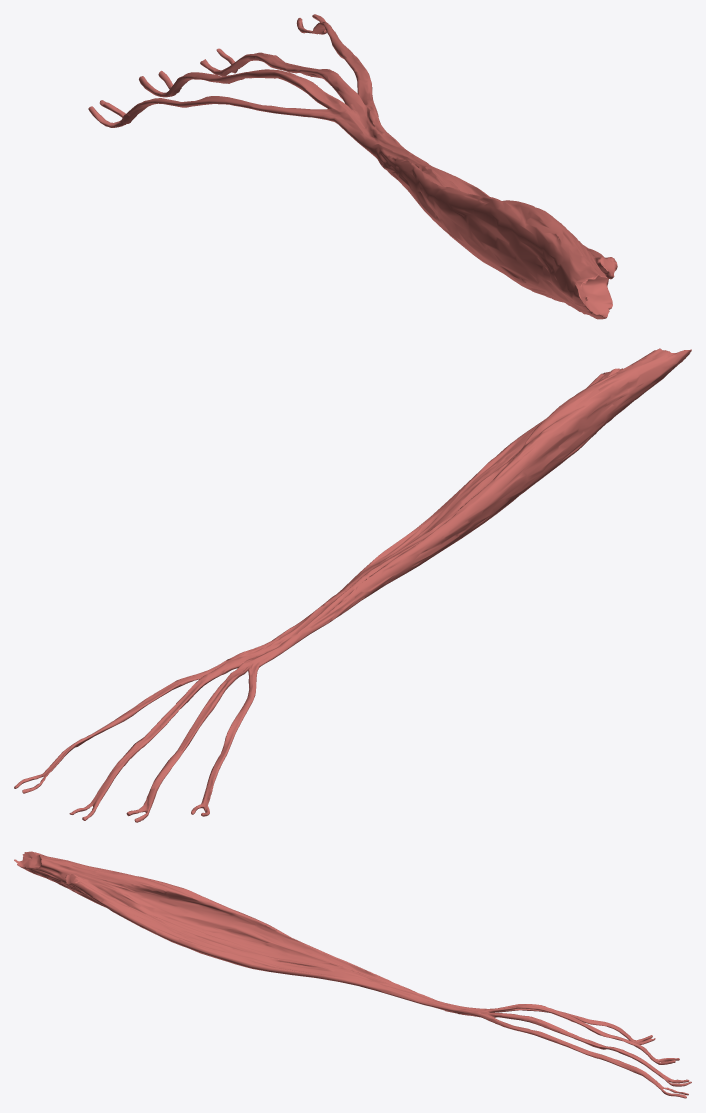
The picture shows the model from 3 angles, top to bottom: view 1: azimuth 30°, elevation 25°; view 2: azimuth 150°, elevation 25°; view 3: azimuth 270°, elevation 25°; orthographic projection. The views are drawn at different scales.
Parts seen in each view (by area): view 1: 左侧指浅屈肌肱尺头; view 2: 左侧指浅屈肌肱尺头; view 3: 左侧指浅屈肌肱尺头.
Boxes of the visible parts, <box> form: 左侧指浅屈肌肱尺头: <box>88,14,617,319</box>; 左侧指浅屈肌肱尺头: <box>14,348,691,822</box>; 左侧指浅屈肌肱尺头: <box>14,851,691,1098</box>.
Size of the model in its own units: 0.1945 by 0.1528 by 0.5742.
